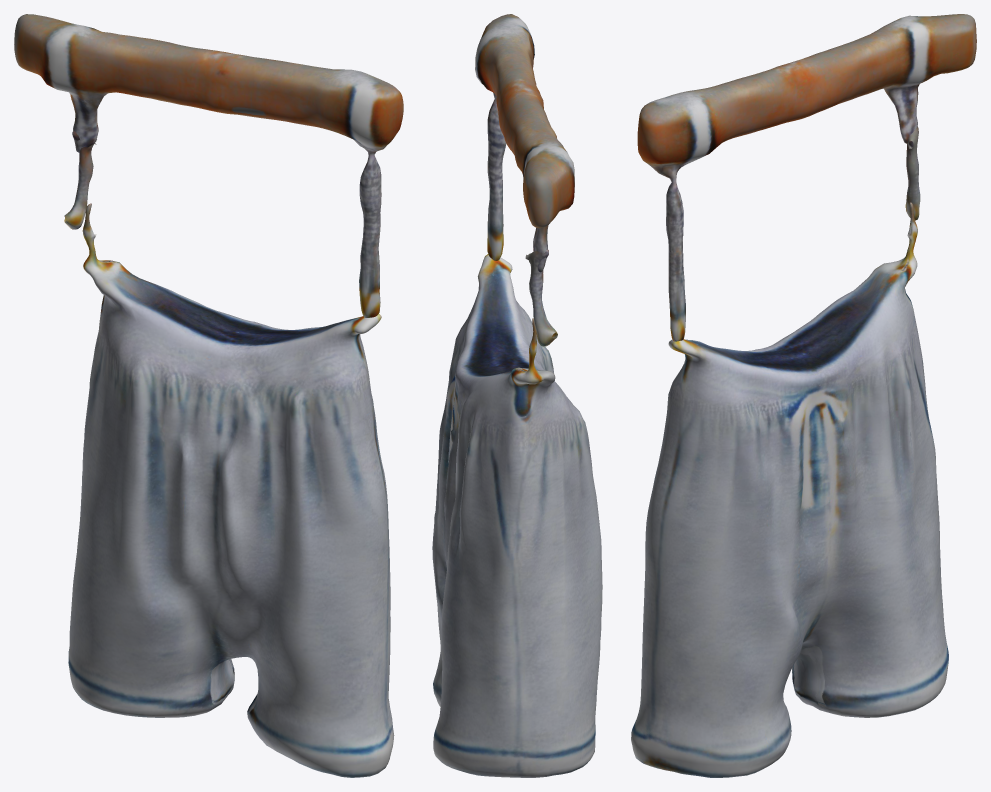
File: hanging_pants.fbx
3 views of the same model, side by side, from view 1: azimuth 30°, elevation 25°; view 2: azimuth 150°, elevation 25°; view 3: azimuth 270°, elevation 25° (orthographic). The views are drawn at different scales.
Visible parts, largest first — view 1: mesh; view 2: mesh; view 3: mesh.
Part boxes in pixels (bbox=[...]): mesh: bbox=[14, 14, 403, 777]; mesh: bbox=[432, 14, 602, 777]; mesh: bbox=[631, 14, 976, 777].
Size of the model in its own units: 36.13 by 99.91 by 47.13.
Materials: 1 (1 with a texture image).
